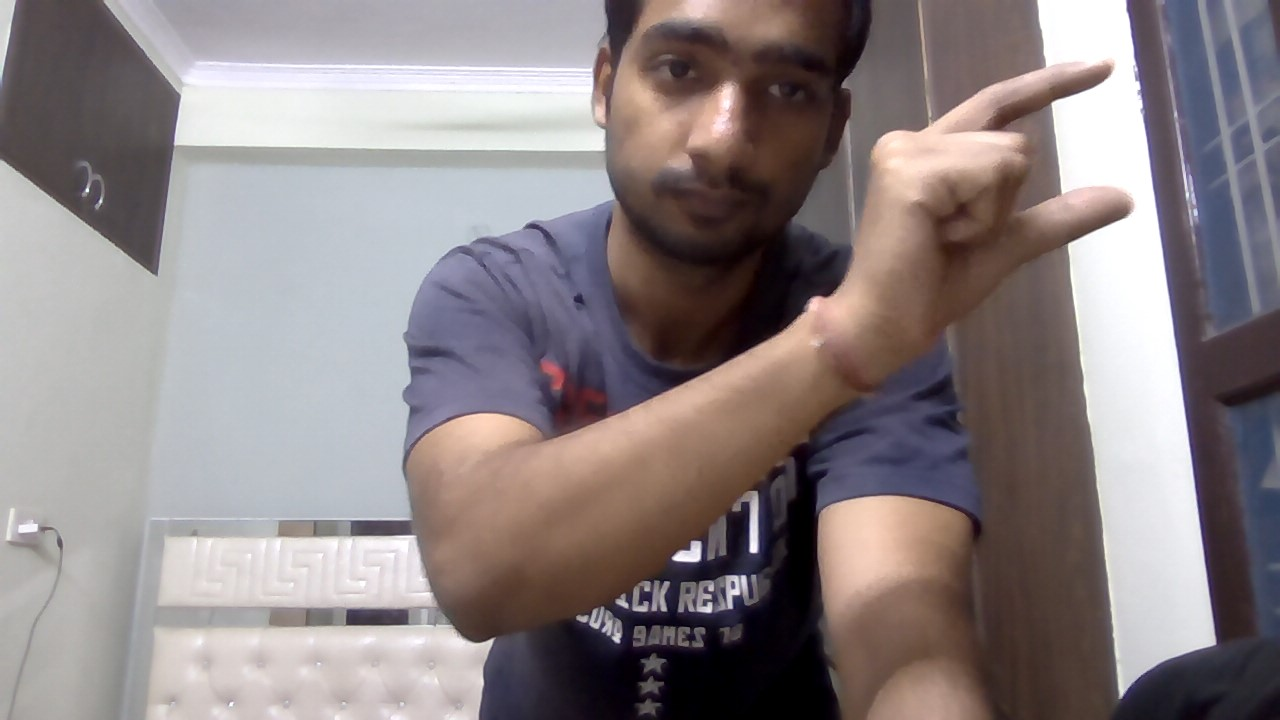Paste: (823, 53, 1149, 386)
